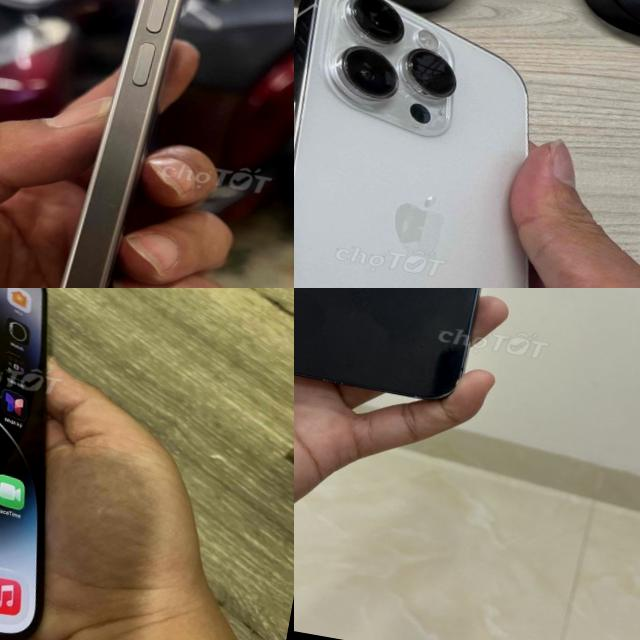gen_12_13: (294, 288, 530, 415)
gen_14: (294, 0, 623, 288), (0, 288, 128, 640)
gen_15: (6, 0, 226, 288)
